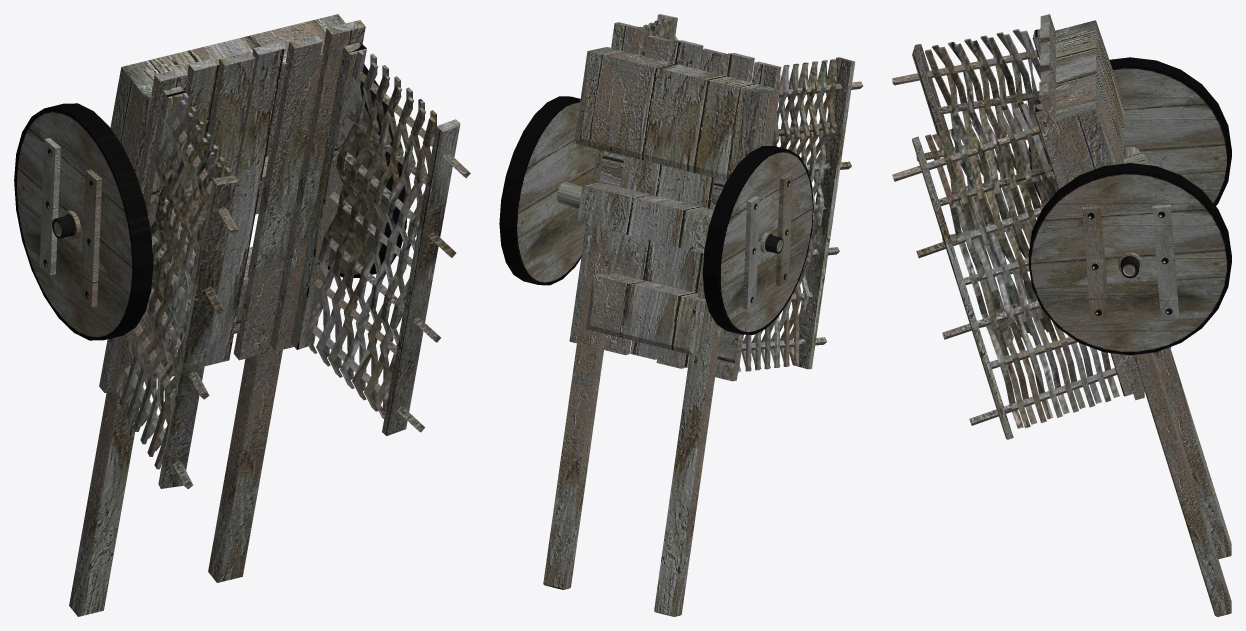
3 renders of one model, left to right at view 1: azimuth 30°, elevation 25°; view 2: azimuth 150°, elevation 25°; view 3: azimuth 270°, elevation 25°, orthographic. The views are drawn at different scales.
Visible parts, largest first — view 1: wagen1_Lp_; view 2: wagen1_Lp_; view 3: wagen1_Lp_.
Boxes of the visible parts, x1,y1,x2,y2 form: wagen1_Lp_: (14,14,470,616); wagen1_Lp_: (499,14,863,616); wagen1_Lp_: (892,14,1231,616).
Bounding box in the file's own units: 1.1 × 2.13 × 1.24.
9 materials, 9 textured.
